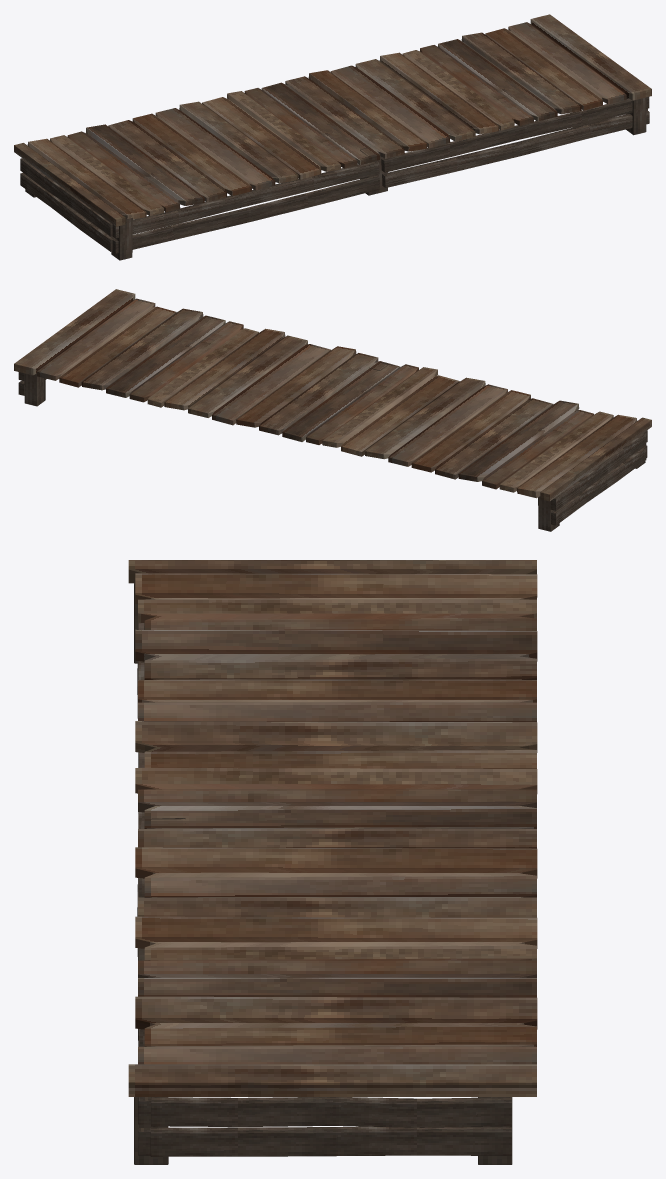
Rendered from Walkway_6m.fbx.
3 renders of one model, top to bottom at view 1: azimuth 30°, elevation 25°; view 2: azimuth 150°, elevation 25°; view 3: azimuth 270°, elevation 25°, orthographic. The views are drawn at different scales.
Parts seen in each view (by area): view 1: Walkway_6m; view 2: Walkway_6m; view 3: Walkway_6m.
Boxes of the visible parts, x1=… form: Walkway_6m: x1=14, y1=14, x2=651, y2=260; Walkway_6m: x1=14, y1=289, x2=651, y2=531; Walkway_6m: x1=128, y1=560, x2=537, y2=1164.
Bounding box in the file's own units: 623 × 47.75 × 205.
2 materials, 2 textured.
